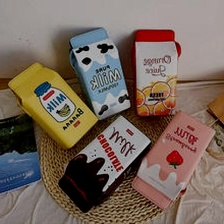carton: (54, 113, 152, 215), (128, 107, 217, 213), (6, 59, 100, 151), (67, 24, 133, 122), (131, 24, 183, 119)
